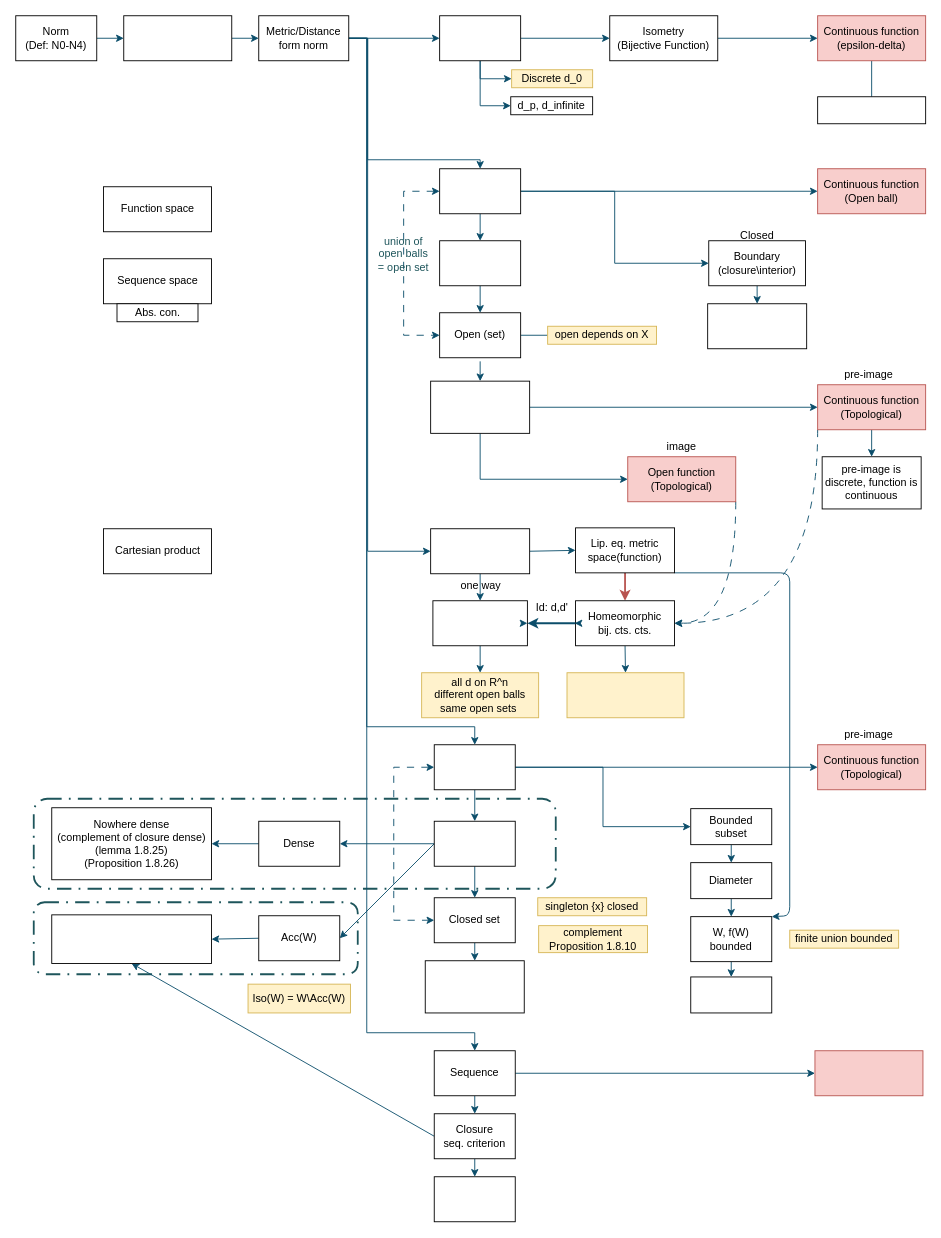
The diagram is 941 pixels wide and 1238 high, and some of its shapes have lost their labels. The centre of each missing label's shape, as x and y in pixels:
"Bounded function" belongs at point (731, 994).
"Closed ball" belongs at point (474, 767).
"Closure" belongs at point (474, 843).
"Closure W = W & Acc(W) Acc = lim w_n" belongs at point (131, 938).
"Composition of Continuous function" belongs at point (871, 110).
"Continuous function (Sequence)" belongs at point (868, 1073).
"homeomorphic intervals" belongs at point (625, 695).
"Interior point" belongs at point (480, 263).
"intersection of closure of W, X\W" belongs at point (757, 326).
"Lipschitz equivalent metric" belongs at point (480, 551).
"Metric Space (Def: M0-M5)" belongs at point (480, 38).
"Normed vector space d(x,y) = ||x-y||" belongs at point (177, 38).
"Open ball" belongs at point (480, 191).
"Open/Closed seq. criterion" belongs at point (474, 1199).
"Proposition 1.5.18 Proposition 1.5.19 Proposition 1.5.22" belongs at point (480, 406).
"Proposition 1.8.9 Proposition 1.8.12 Proposition 1.8.15" belongs at point (474, 986).
"Topological equivalent metric" belongs at point (479, 623).
